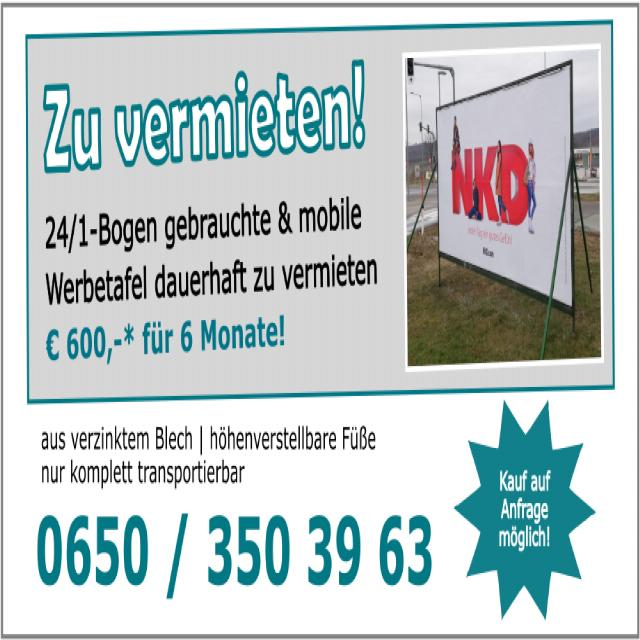Werbetafel frei: (433, 57, 576, 322)
